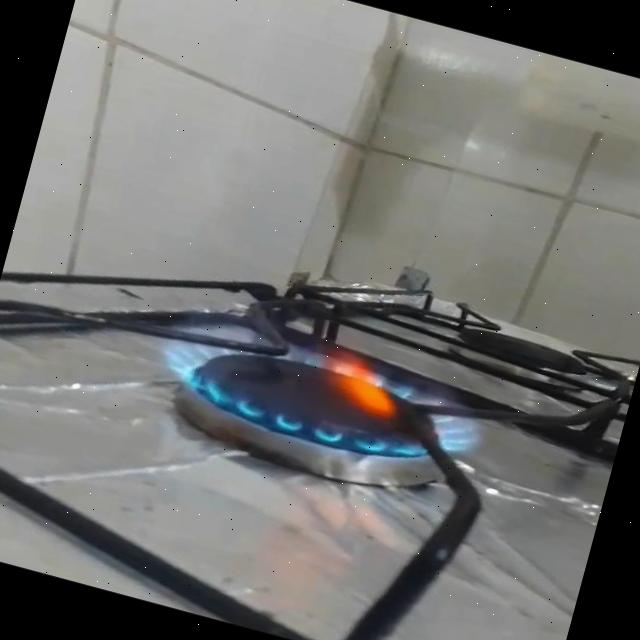fire: (135, 290, 501, 492)
